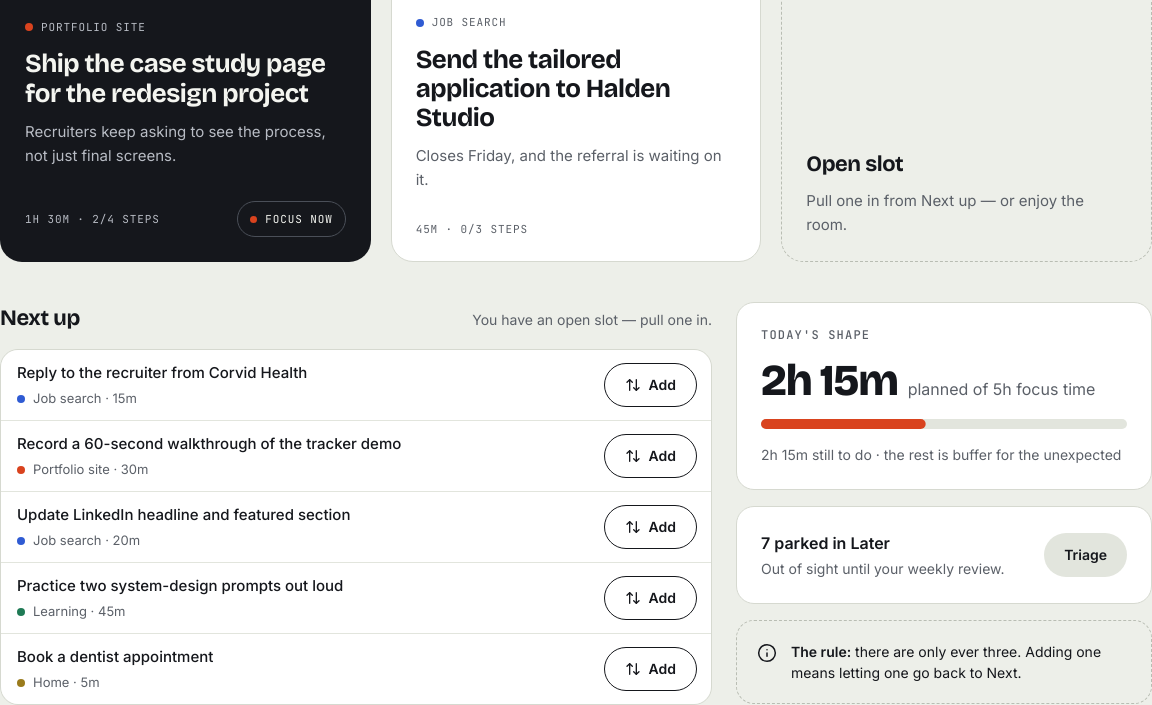
Test: Today › shows open slots and lets you fill them
This screenshot has width=1152, height=705.
(page scrolled)
Expected: the heading "Open slot" is shown, [806,150,903,176]
Click the button with aria-label "Add to the three: Book a dentist". click: coordinates (650, 669)
box: [604,647,697,691]
(page scrolled)
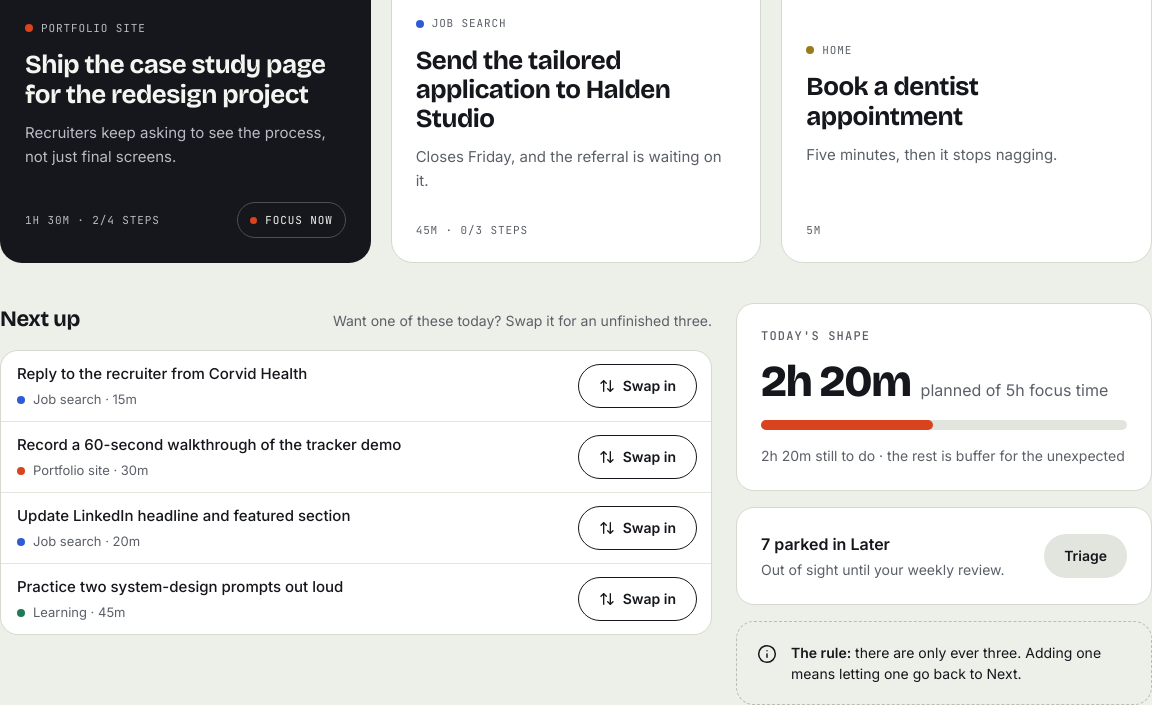
Expected: the heading "Book a dentist appointment" is shown, [806,71,978,132]
Expected: the heading "Open slot" is gone
